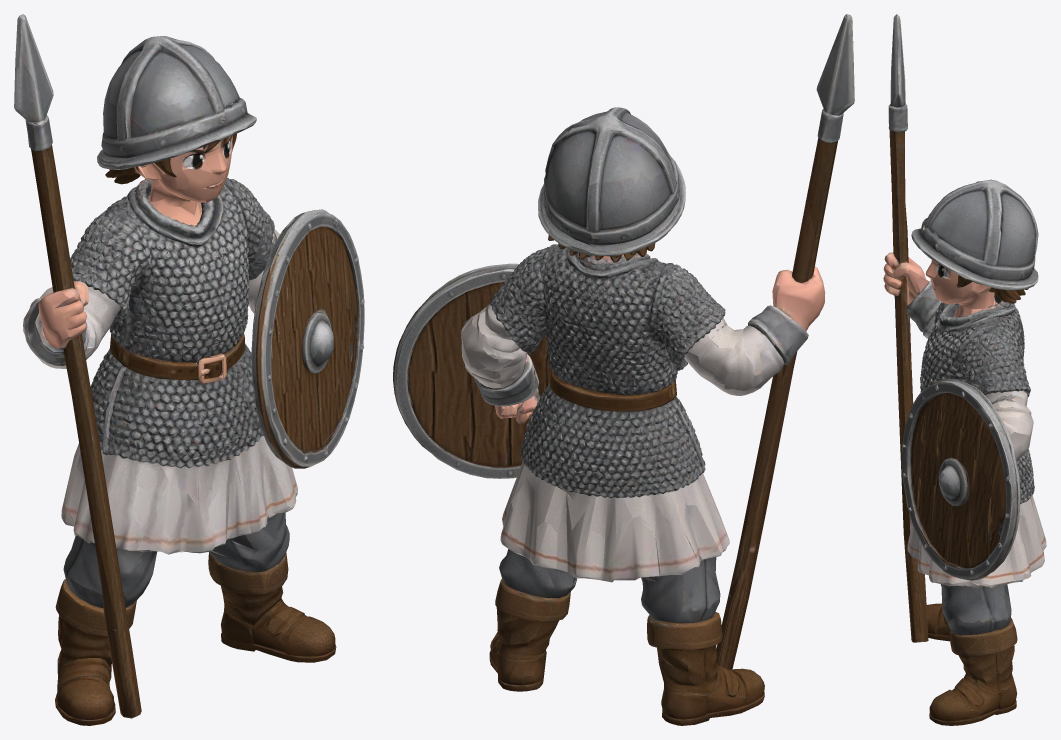
The model's file is recruit_white.glb.
The picture shows the model from 3 angles, left to right: view 1: azimuth 30°, elevation 25°; view 2: azimuth 150°, elevation 25°; view 3: azimuth 270°, elevation 25°; orthographic projection. The views are drawn at different scales.
Bounding box in the file's own units: 1.13 × 1.9 × 0.4833.
Materials: 1 (1 with a texture image).
